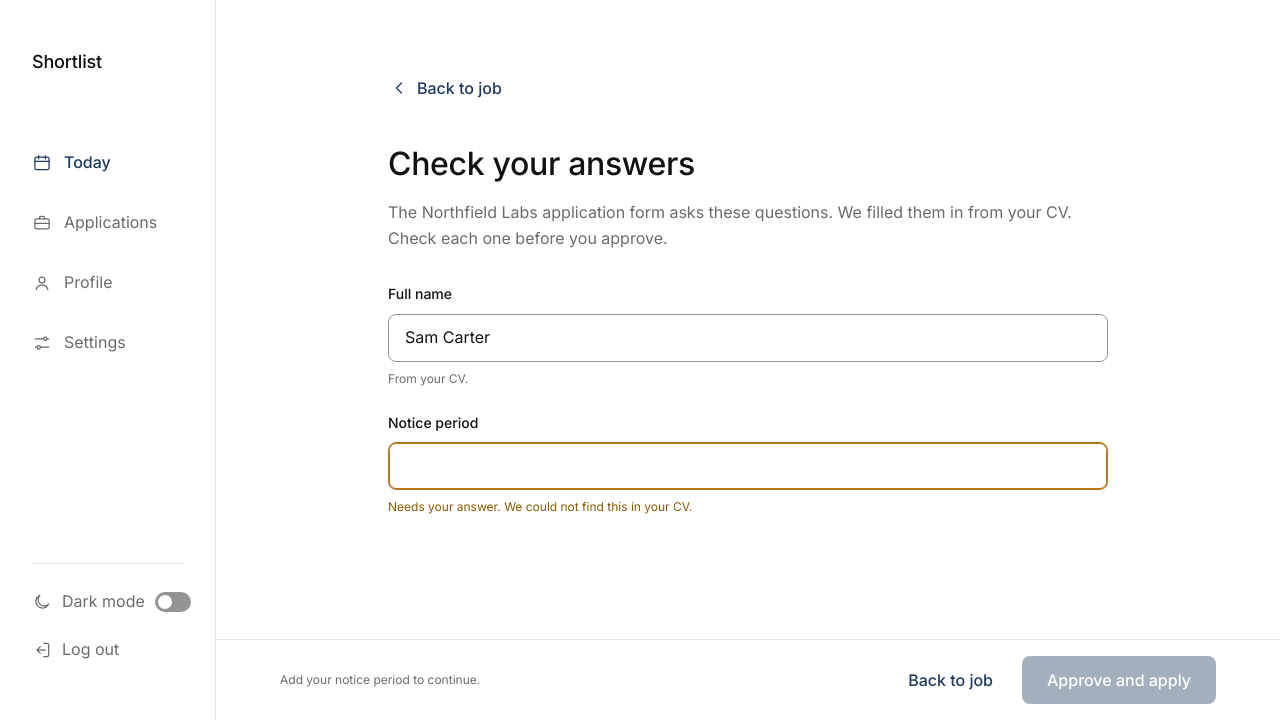
Test: Check answers › keeps Approve disabled until every answer is filled in
Expected: the heading "Check your answers" is shown, [388,144,695,183]
Expected: the button "Approve and apply" is disabled, [1022,656,1216,704]
Type "One month" into the field labelled "Notice period". click: (748, 466)
box: [388,442,1108,490]
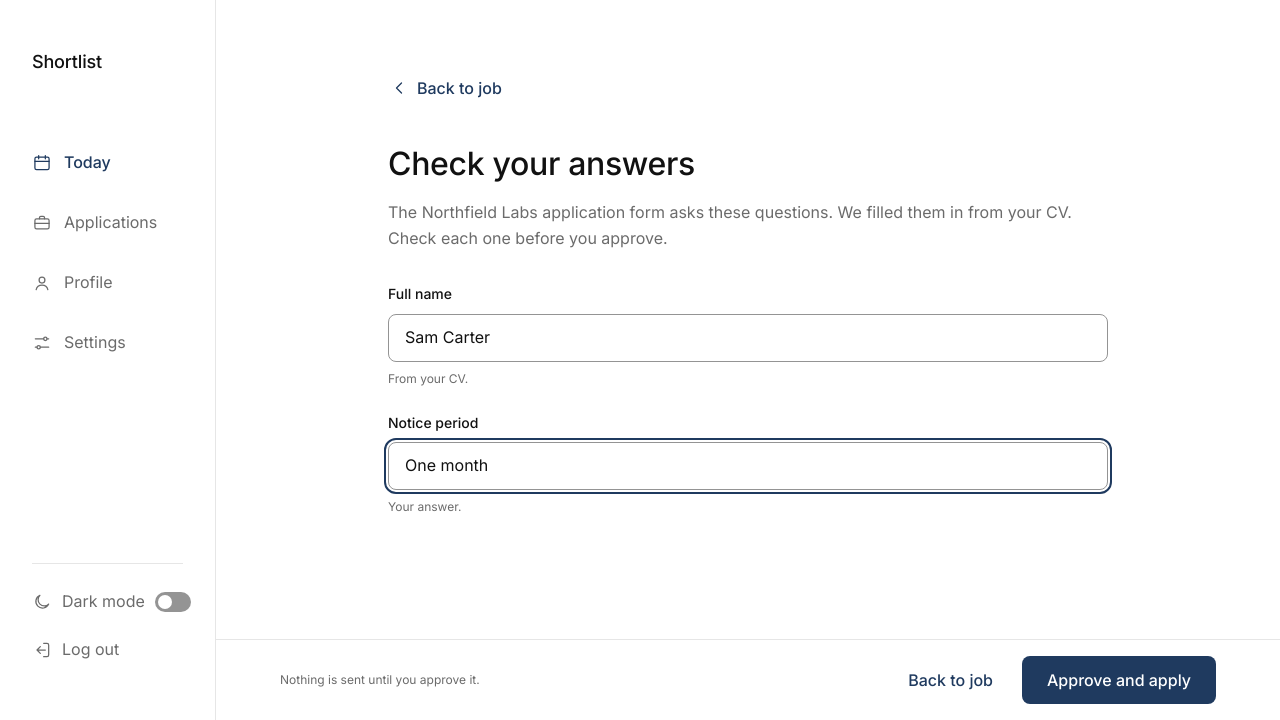
Expected: the button "Approve and apply" is enabled, [1022,656,1216,704]
Expected: the text "Nothing is sent until you approve it." is shown, [280,672,480,687]
